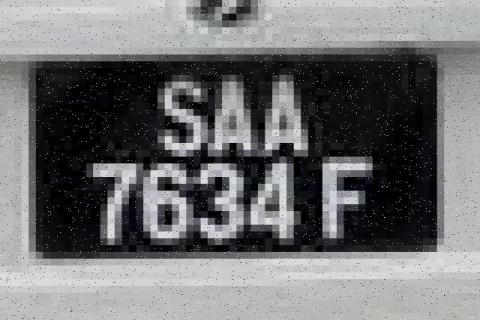LicensePlate: (26, 51, 442, 260)
